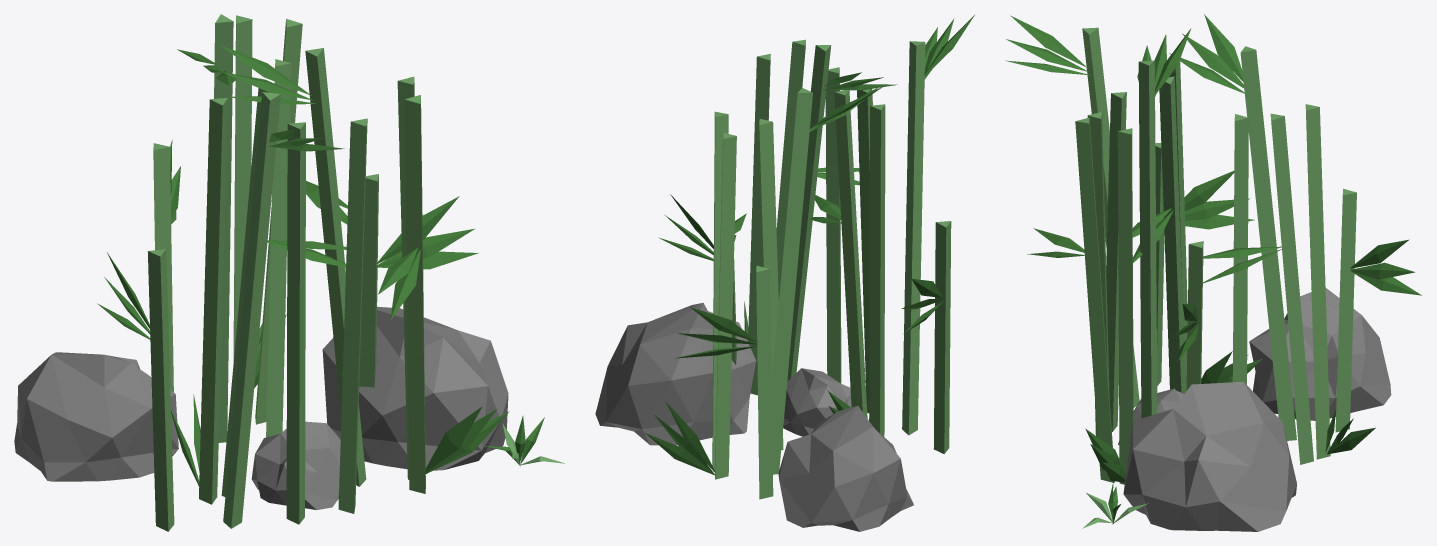
The model's file is block_canes.obj.
The picture shows the model from 3 angles, left to right: view 1: azimuth 30°, elevation 25°; view 2: azimuth 150°, elevation 25°; view 3: azimuth 270°, elevation 25°; orthographic projection. The views are drawn at different scales.
Visible parts, largest first — view 1: Cane_Cube.005, Cane_Cube.004, Cane_Cube.003, Icosphere.007, Icosphere.005, Icosphere.006, Cylinder.000; view 2: Cane_Cube.005, Cane_Cube.003, Cane_Cube.004, Icosphere.005, Icosphere.007, Icosphere.006; view 3: Cane_Cube.003, Cane_Cube.004, Icosphere.005, Cane_Cube.005, Icosphere.007, Cylinder.000, Icosphere.006.
Boxes of the visible parts, box(x1,y1,x2,y2) form: Cane_Cube.005: box(97, 88, 364, 531); Cane_Cube.004: box(219, 44, 509, 513); Cane_Cube.003: box(153, 14, 347, 442); Icosphere.007: box(14, 352, 178, 481); Icosphere.005: box(322, 306, 508, 470); Icosphere.006: box(251, 421, 340, 509); Cylinder.000: box(484, 415, 564, 466); Cane_Cube.005: box(811, 15, 974, 453); Cane_Cube.003: box(645, 86, 883, 499); Cane_Cube.004: box(658, 39, 897, 395); Icosphere.005: box(595, 302, 756, 445); Icosphere.007: box(778, 406, 913, 531); Icosphere.006: box(783, 368, 851, 436); Cane_Cube.003: box(1169, 14, 1421, 464); Cane_Cube.004: box(1027, 28, 1203, 484); Icosphere.005: box(1123, 381, 1296, 531); Cane_Cube.005: box(1005, 15, 1262, 431); Icosphere.007: box(1249, 288, 1391, 420); Cylinder.000: box(1082, 482, 1148, 528); Icosphere.006: box(1118, 388, 1183, 444).
Bounding box in the file's own units: 4.3 × 4.57 × 4.44.
Materials: 3 (3 with a texture image).
